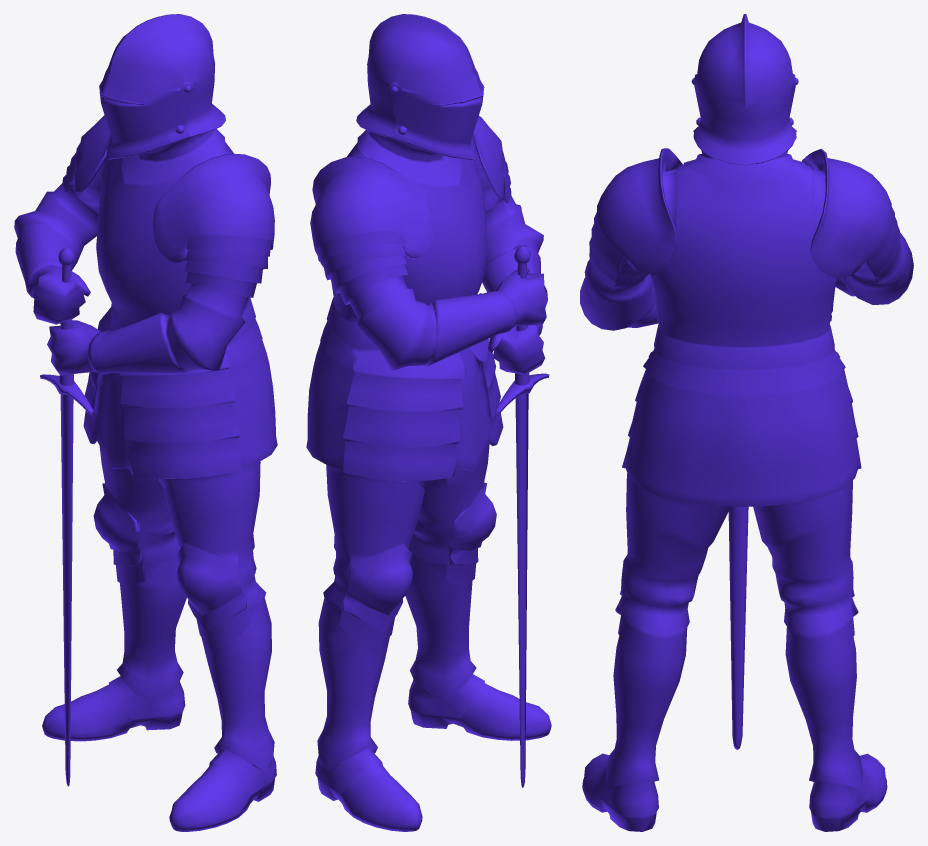
The model's file is Statue_Sword.fbx.
The picture shows the model from 3 angles, left to right: view 1: azimuth 30°, elevation 25°; view 2: azimuth 150°, elevation 25°; view 3: azimuth 270°, elevation 25°; orthographic projection. The views are drawn at different scales.
Parts seen in each view (by area): view 1: Statue_Sword; view 2: Statue_Sword; view 3: Statue_Sword.
Part boxes in pixels (left/top/right/bottom): Statue_Sword: left=14, top=14, right=277, bottom=831; Statue_Sword: left=306, top=14, right=551, bottom=831; Statue_Sword: left=580, top=14, right=913, bottom=831.
Size of the model in its own units: 1.54 by 1.93 by 5.01.
